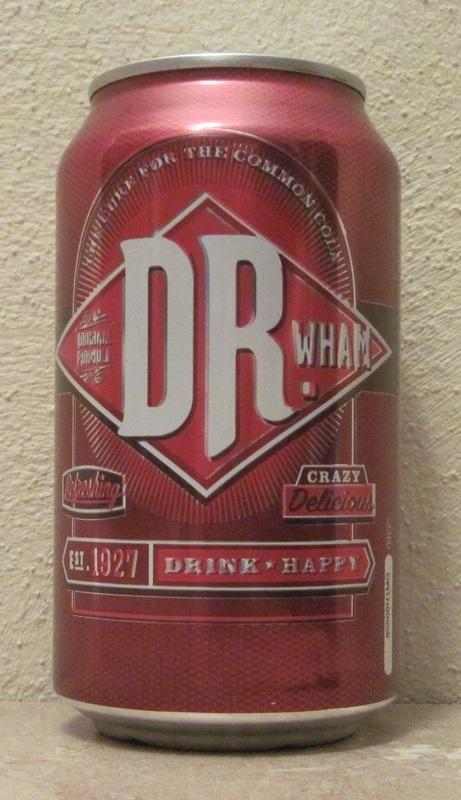can: (47, 37, 402, 756)
